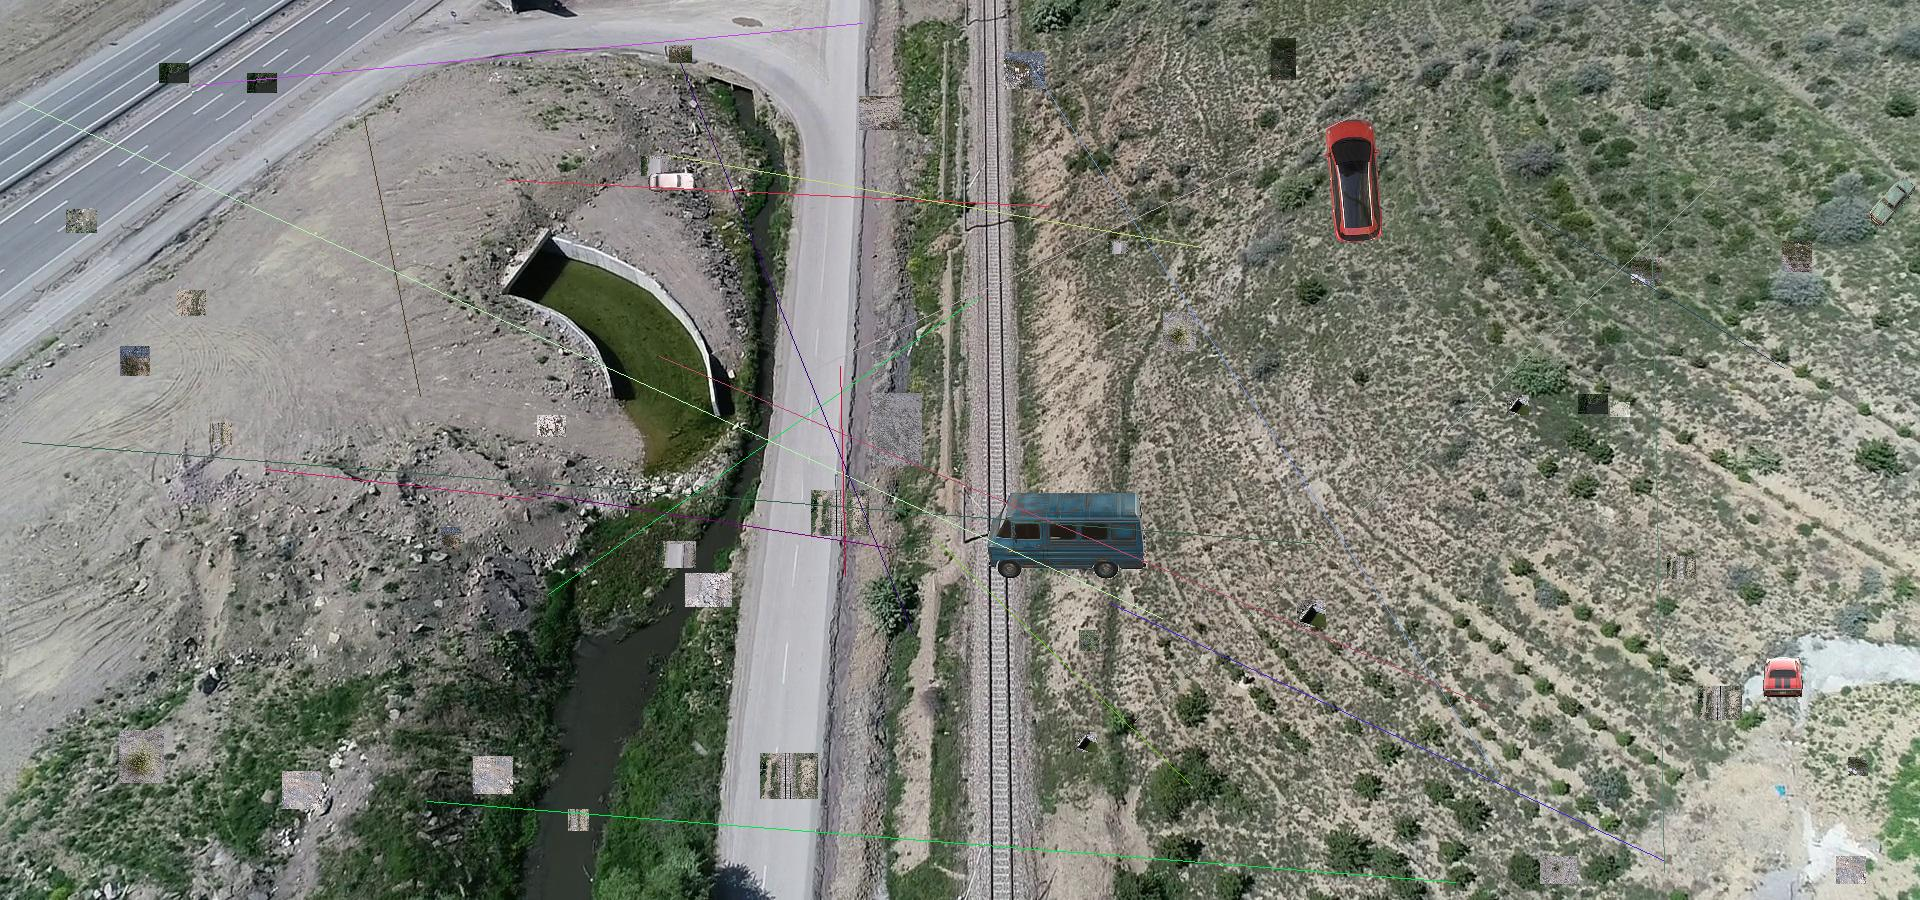arac: (984, 493, 1149, 579), (1321, 115, 1387, 245), (1870, 174, 1916, 227), (1758, 654, 1804, 697), (647, 171, 697, 193)
